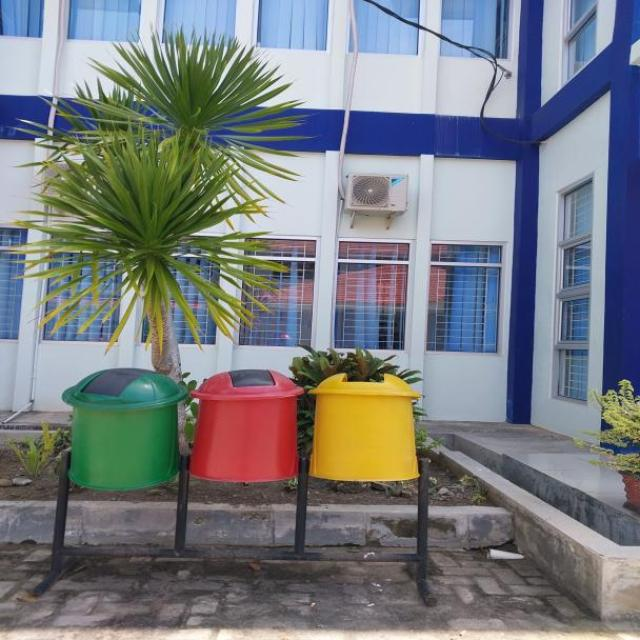dustbin ahead at: (46, 366, 435, 493)
